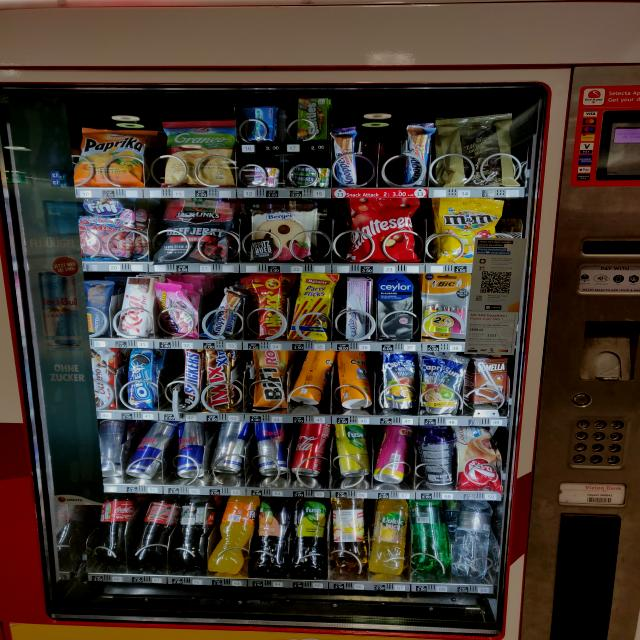7days_croissantschoko_packung_80_1_0000000000003: (457, 426, 497, 494)
airwaves_menthoneucalyptus_riegel_14_1_50173167: (239, 102, 285, 144)
bifi_roll__50__4251097402635: (255, 348, 292, 409)
bueno___43__4008400320328: (87, 347, 121, 412)
c-swiss_dosenabisicetea__33__9120025930135: (290, 348, 336, 404), (335, 351, 378, 410)
caferoyal_classicmacchiato__33__7617014164487: (418, 428, 458, 486)
caprisun_multivitamin__20__4000177605004: (412, 351, 468, 416), (374, 351, 421, 410)
coke__dose_33__54491472: (291, 422, 331, 478)
coke__flasche_50__54491472: (95, 494, 142, 560), (131, 496, 178, 560)
coke_zero_flasche_50__5449000131836: (175, 493, 219, 565)
comella_schokodrink__33__7613100037253: (467, 354, 513, 405)
fanta___50__40822938: (211, 496, 258, 574)
fini_galaxymix_packung_100_1_8410525150364: (77, 197, 143, 260)
fini_jellykisses_packung_80_1_8410525116704: (158, 284, 198, 336)
fuse_lemon__50__5449000235947: (289, 498, 332, 578)
fuse_lemon_dose_33__5449000235947: (334, 420, 372, 479)
fuse_peach__50__5449000236623: (254, 500, 292, 576)
jacklinks_beefjerkyorginal__25__4047751730219: (156, 197, 242, 263)
jlbrichard_gauffrechoko__90__5410495002079: (431, 114, 516, 186)
kagi___50__7610046000259: (108, 276, 156, 337)
knoppers_riegel____4035800488808: (203, 289, 245, 340)
lorenz_nicnacs__40__4018077798818: (249, 274, 289, 338)
malburner_partysticks__40__7610200279682: (287, 275, 339, 342)
maltesers___100__5000159023061: (343, 193, 425, 265)
mnms_gelb__45__40111445: (436, 196, 508, 264)
oreo___66__84100733: (124, 349, 160, 411)
powerbar_proteinplusschoko__55__4029679520028: (82, 280, 118, 337)
ramseier_schorle__50__7610057012456: (332, 498, 368, 570)
redbull___33__90162909: (124, 424, 170, 482), (250, 420, 291, 479), (168, 422, 208, 481), (209, 422, 249, 474), (95, 419, 125, 480)
skittles_sour_riegel_51_1_0000000000004: (294, 96, 334, 142)
snickers___50__5000159461122: (176, 347, 204, 408)
stimorol_spearmint_riegel_14_1_0000000000005: (290, 165, 330, 188)
stimorol_wildcherry_riegel_14_1_57060330: (240, 165, 278, 186)
tiki_himbeer_brause__50__00000000009342: (370, 428, 413, 487)
twix___50__5000159459228: (201, 349, 232, 411)
valser_classic__50__76404160: (410, 501, 451, 574)
valser_still__50__7610335002575: (446, 497, 496, 578)
volvic_pinapple__50__305764335648: (370, 498, 411, 576)
zweifel_graneochilli__100__7610095184009: (158, 116, 236, 187)
zweifel_paprika__90__7610095013002: (73, 126, 151, 186)
